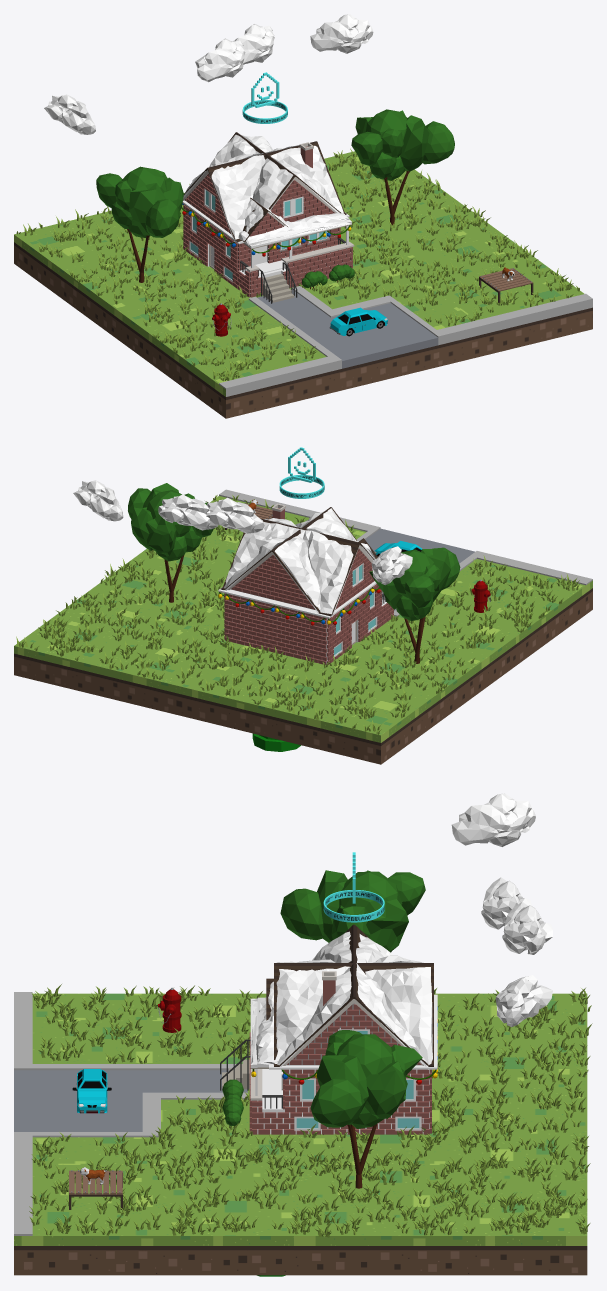
The picture shows the model from 3 angles, top to bottom: view 1: azimuth 30°, elevation 25°; view 2: azimuth 150°, elevation 25°; view 3: azimuth 270°, elevation 25°; orthographic projection. The views are drawn at different scales.
Parts seen in each view (by area): view 1: Cube.006, Cube.1419, Circle.012_Grass_0.192, Cube.007, tree, tree.001, VEHICLES_CAR, TYPE_PREMIUM, Cube.009; view 2: Cube.006, Cube.1419, Circle.012_Grass_0.192, Cube.007, tree.001, tree, TYPE_PREMIUM, UNDERGROUND_PIPES, OBJRANDOM_FIRE_HYDRANT; view 3: Cube.006, Circle.012_Grass_0.192, Cube.1419, tree, Cube.007, tree.001, VEHICLES_CAR, Cube.009, TYPE_PREMIUM, OBJRANDOM_FIRE_HYDRANT.
Part boxes in pixels (left/top/right/bottom): Cube.006: left=14, top=151, right=592, bottom=418; Cube.1419: left=181, top=132, right=354, bottom=303; Circle.012_Grass_0.192: left=16, top=148, right=579, bottom=381; Cube.007: left=44, top=14, right=373, bottom=134; tree: left=351, top=109, right=454, bottom=225; tree.001: left=96, top=166, right=183, bottom=282; VEHICLES_CAR: left=329, top=307, right=387, bottom=336; TYPE_PREMIUM: left=242, top=72, right=287, bottom=123; Cube.009: left=479, top=268, right=533, bottom=302; Cube.006: left=14, top=489, right=592, bottom=764; Cube.1419: left=218, top=503, right=393, bottom=664; Circle.012_Grass_0.192: left=16, top=495, right=579, bottom=734; Cube.007: left=73, top=480, right=412, bottom=585; tree.001: left=369, top=547, right=460, bottom=663; tree: left=128, top=483, right=213, bottom=602; TYPE_PREMIUM: left=279, top=447, right=324, bottom=498; UNDERGROUND_PIPES: left=252, top=733, right=300, bottom=751; OBJRANDOM_FIRE_HYDRANT: left=471, top=579, right=490, bottom=612; Cube.006: left=14, top=992, right=587, bottom=1275; Circle.012_Grass_0.192: left=29, top=984, right=592, bottom=1237; Cube.1419: left=220, top=924, right=437, bottom=1134; tree: left=310, top=1030, right=422, bottom=1188; Cube.007: left=451, top=793, right=552, bottom=1026; tree.001: left=280, top=870, right=425, bottom=952; VEHICLES_CAR: left=72, top=1069, right=111, bottom=1113; Cube.009: left=69, top=1170, right=122, bottom=1209; TYPE_PREMIUM: left=323, top=852, right=384, bottom=922; OBJRANDOM_FIRE_HYDRANT: left=158, top=987, right=181, bottom=1032.
Size of the model in its own units: 4071 by 2884 by 4040.
46 materials, 4 textured.
